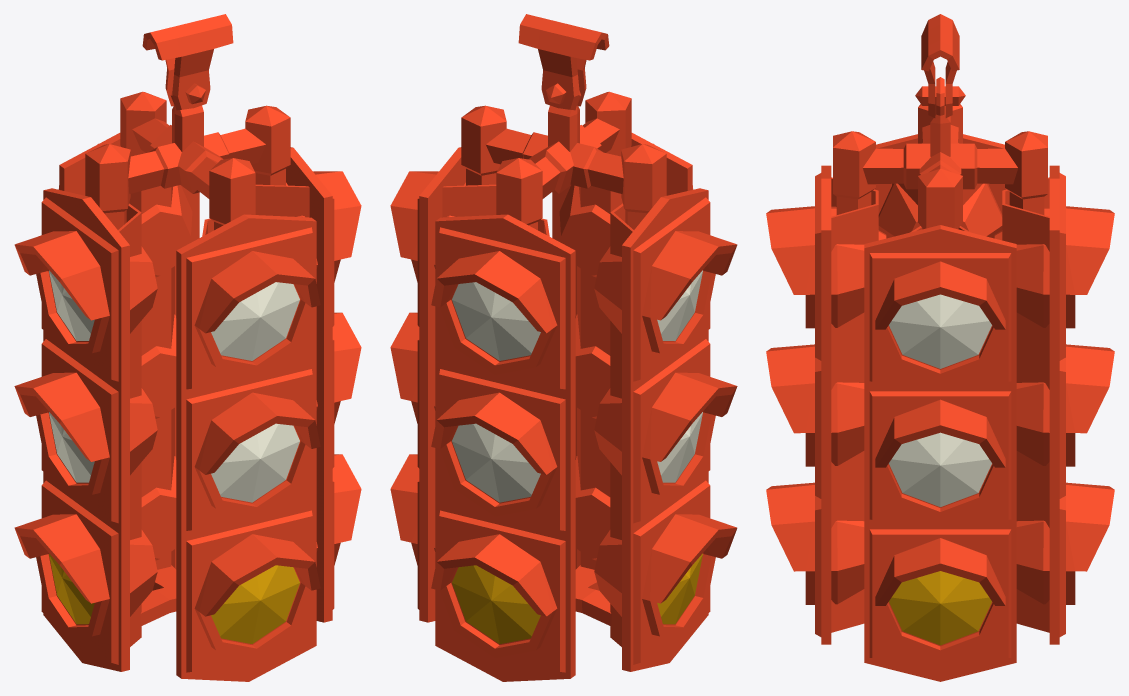
File: SM_Traffic_Light_Middle_A_City.fbx
3 views of the same model, side by side, from view 1: azimuth 30°, elevation 25°; view 2: azimuth 150°, elevation 25°; view 3: azimuth 270°, elevation 25° (orthographic). The views are drawn at different scales.
Parts seen in each view (by area): view 1: SM_Traffic_Light_Middle_City; view 2: SM_Traffic_Light_Middle_City; view 3: SM_Traffic_Light_Middle_City.
Part boxes in pixels (x1=…): SM_Traffic_Light_Middle_City: x1=14, y1=14, x2=361, y2=681; SM_Traffic_Light_Middle_City: x1=390, y1=14, x2=737, y2=681; SM_Traffic_Light_Middle_City: x1=766, y1=14, x2=1114, y2=681.
Size of the model in its own units: 0.7927 by 1.5 by 0.7927.
